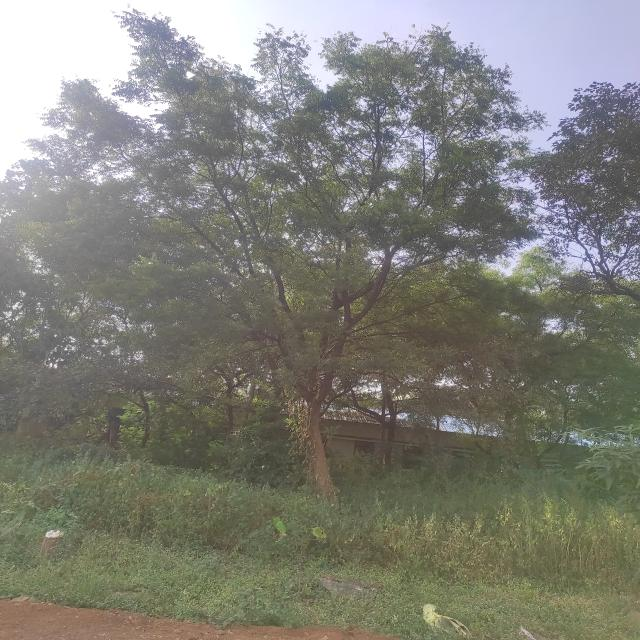Devakanchan tree: (557, 88, 640, 323)
Neem Tree: (85, 31, 499, 446)
